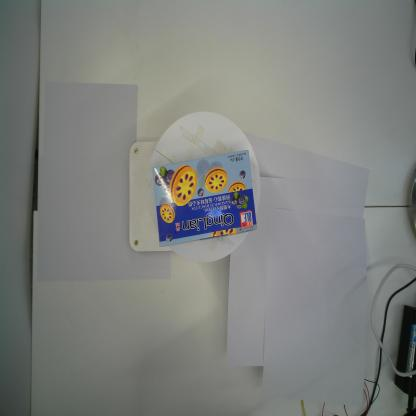Dessert: (152, 148, 258, 248)
